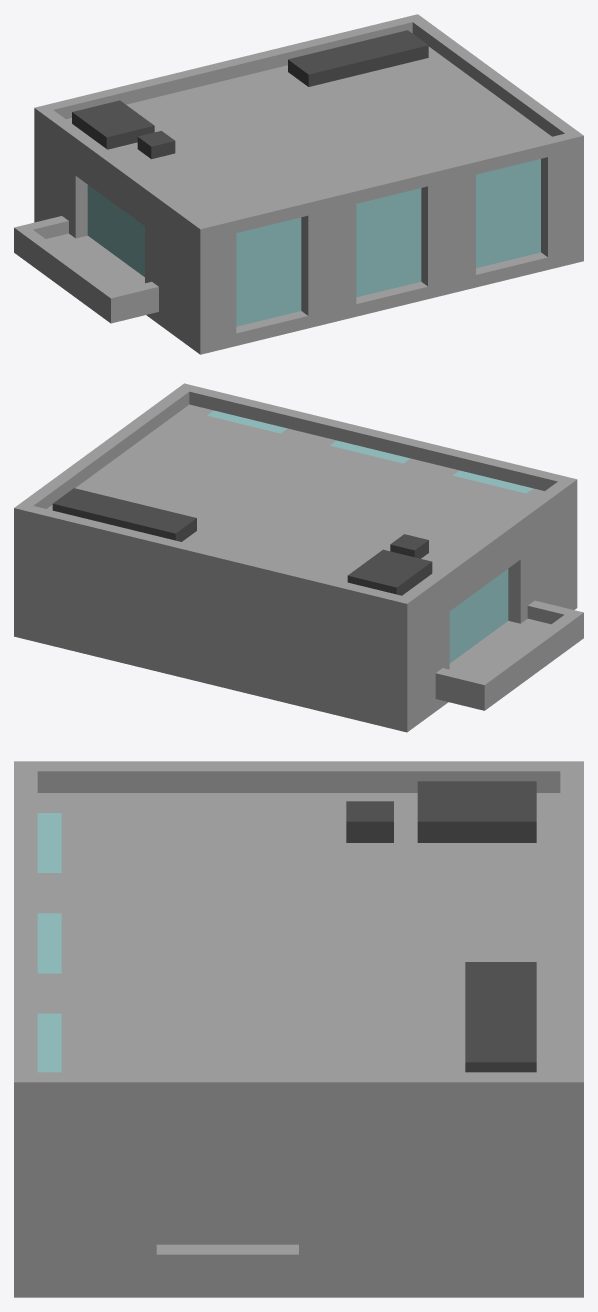
Rendered from building_f4.obj.
3 views of the same model, one above another, from view 1: azimuth 30°, elevation 25°; view 2: azimuth 150°, elevation 25°; view 3: azimuth 270°, elevation 25° (orthographic). The views are drawn at different scales.
Visible parts, largest first — view 1: building_f4; view 2: building_f4; view 3: building_f4.
Boxes of the visible parts, x1,y1,x2,y2 form: building_f4: (14,14,583,354); building_f4: (14,383,583,732); building_f4: (14,761,583,1297).
Bounding box in the file's own units: 3.6 × 1 × 2.4.
Materials: 1 (1 with a texture image).
